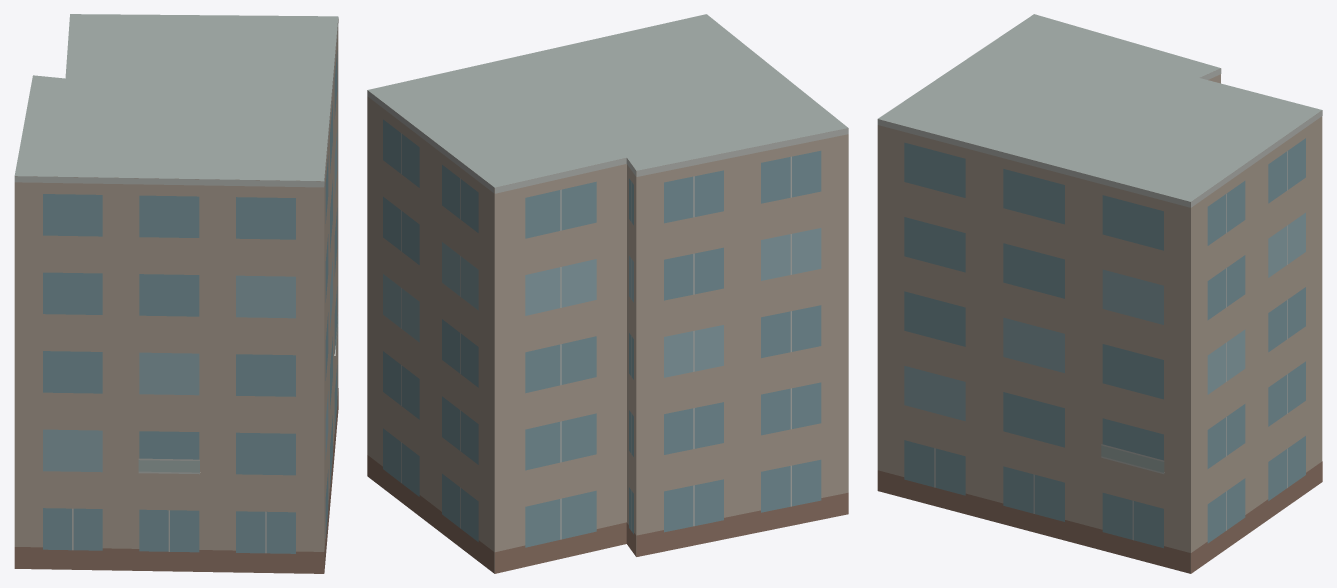
File: survey-upis-32769551.glb
3 views of the same model, side by side, from view 1: azimuth 30°, elevation 25°; view 2: azimuth 150°, elevation 25°; view 3: azimuth 270°, elevation 25° (orthographic). The views are drawn at different scales.
Visible parts, largest first — view 1: survey-upis-32769551.tmp; view 2: survey-upis-32769551.tmp; view 3: survey-upis-32769551.tmp.
Part boxes in pixels (bbox=[...]): survey-upis-32769551.tmp: bbox=[14, 14, 338, 573]; survey-upis-32769551.tmp: bbox=[367, 14, 848, 573]; survey-upis-32769551.tmp: bbox=[877, 14, 1322, 573].
Bounding box in the file's own units: 16.53 × 15.25 × 16.54.
